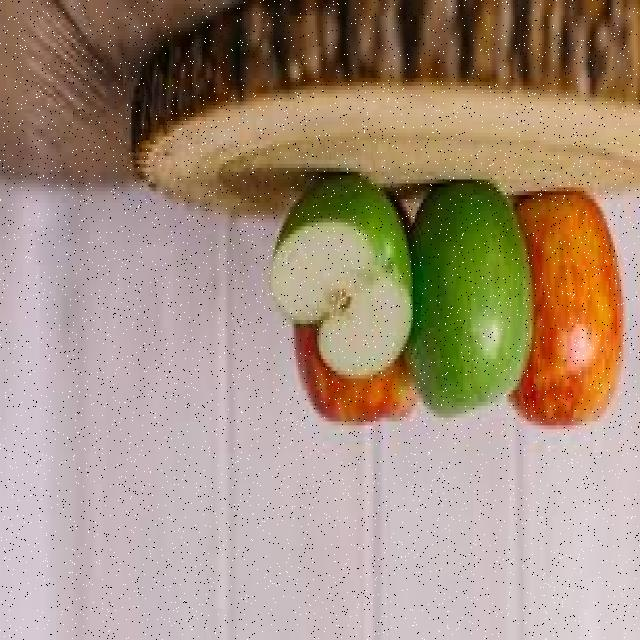Apple: (272, 176, 412, 397), (408, 179, 534, 419), (522, 185, 626, 429), (284, 334, 417, 438)
